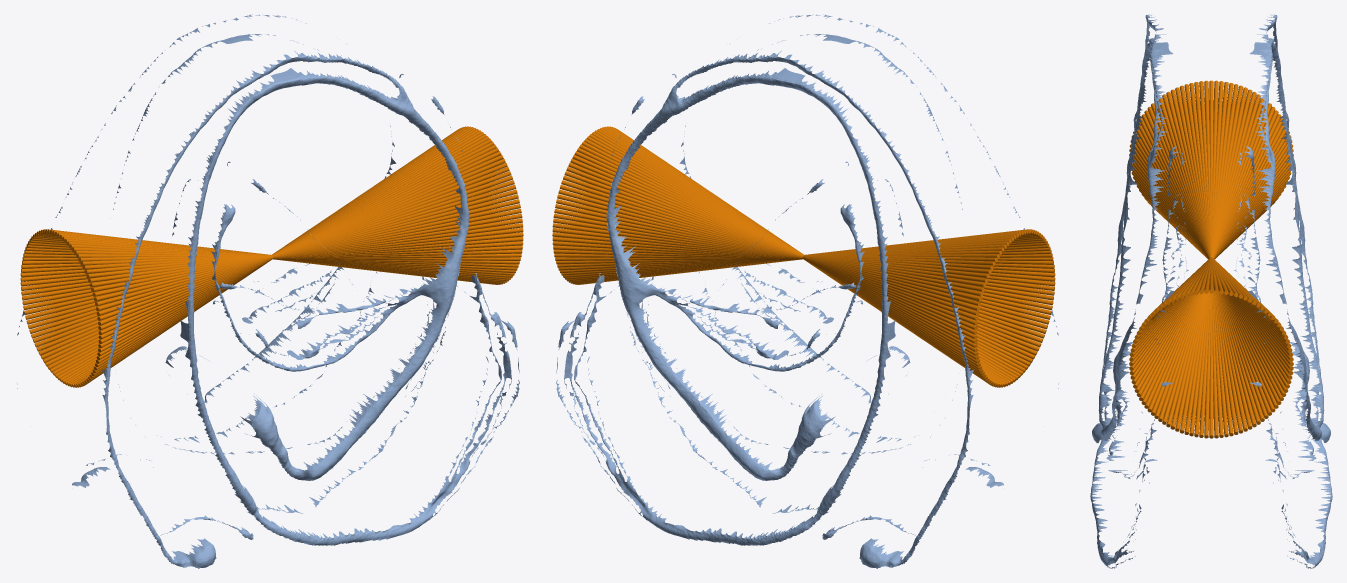
File: A60023301_6150-37-520-4017_DigitalTwin.glb
3 renders of one model, left to right at view 1: azimuth 30°, elevation 25°; view 2: azimuth 150°, elevation 25°; view 3: azimuth 270°, elevation 25°, orthographic.
Parts seen in each view (by area): view 1: world; view 2: world; view 3: world.
Boxes of the visible parts, x1,y1,x2,y2 form: world: (17,14,523,568); world: (552,14,1058,568); world: (1090,14,1332,568).
Bounding box in the file's own units: 451 × 486 × 220.
